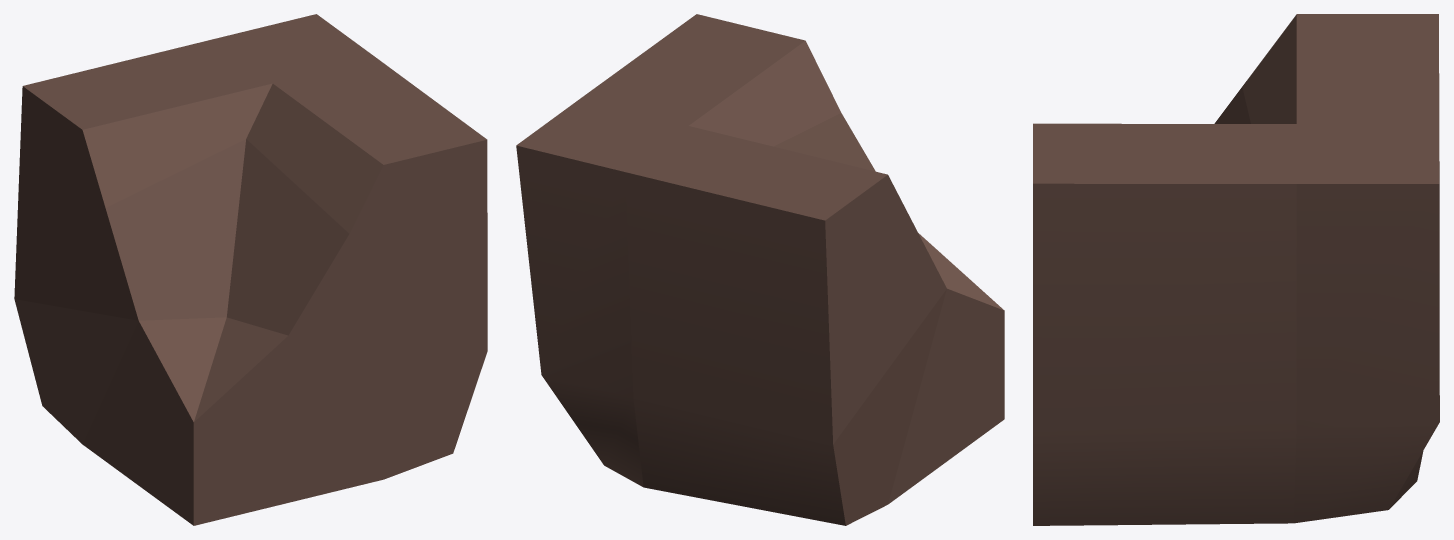
File: Cave_Floor_Corner_Low.fbx
The picture shows the model from 3 angles, left to right: view 1: azimuth 30°, elevation 25°; view 2: azimuth 150°, elevation 25°; view 3: azimuth 270°, elevation 25°; orthographic projection. The views are drawn at different scales.
Parts seen in each view (by area): view 1: Cave_Floor_Corner_Low; view 2: Cave_Floor_Corner_Low; view 3: Cave_Floor_Corner_Low.
Part boxes in pixels (x1,y1,x2,y2): Cave_Floor_Corner_Low: (14,14,487,525); Cave_Floor_Corner_Low: (516,14,1004,525); Cave_Floor_Corner_Low: (1033,14,1439,525).
Size of the model in its own units: 3.06 by 3.01 by 3.04.
